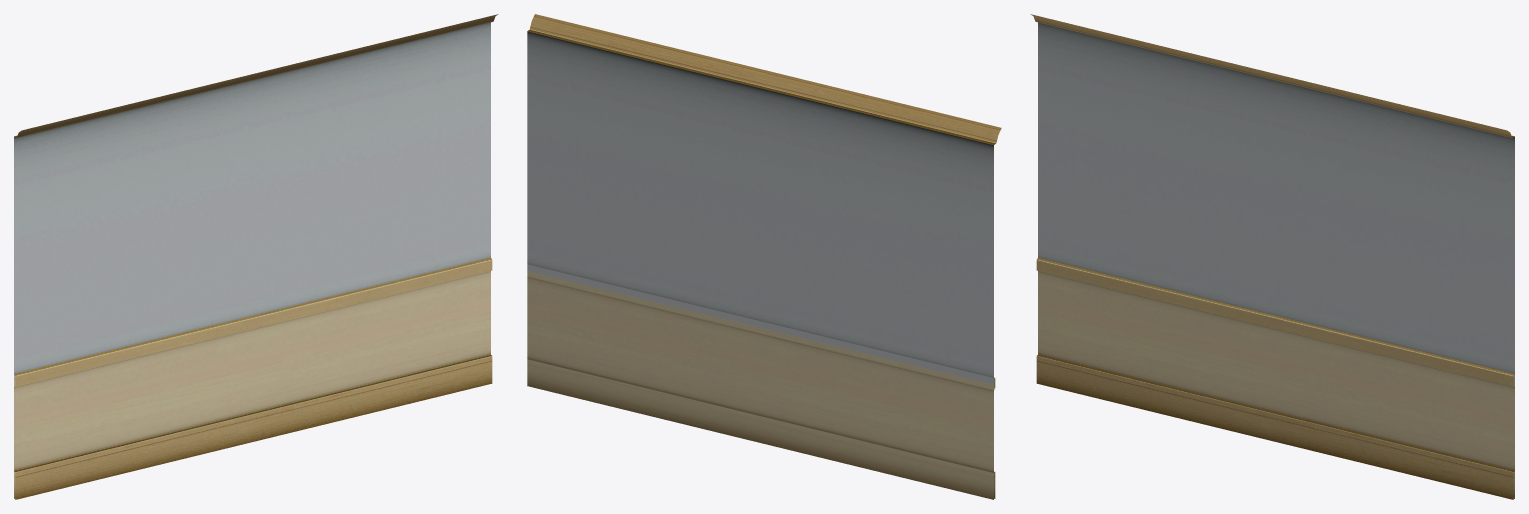
File: InteriorWall (merge).fbx
The picture shows the model from 3 angles, left to right: view 1: azimuth 30°, elevation 25°; view 2: azimuth 150°, elevation 25°; view 3: azimuth 330°, elevation 25°; orthographic projection. The views are drawn at different scales.
Parts seen in each view (by area): view 1: InteriorWall; view 2: InteriorWall; view 3: InteriorWall.
Boxes of the visible parts, x1,y1,x2,y2 form: InteriorWall: [14, 14, 498, 499]; InteriorWall: [527, 14, 1001, 499]; InteriorWall: [1030, 14, 1514, 499].
Size of the model in its own units: 4.06 by 3.05 by 0.1175.
1 material, 1 textured.
